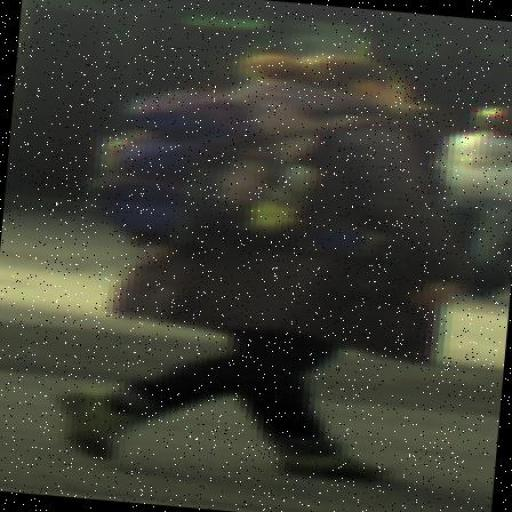person: (98, 35, 506, 495)
